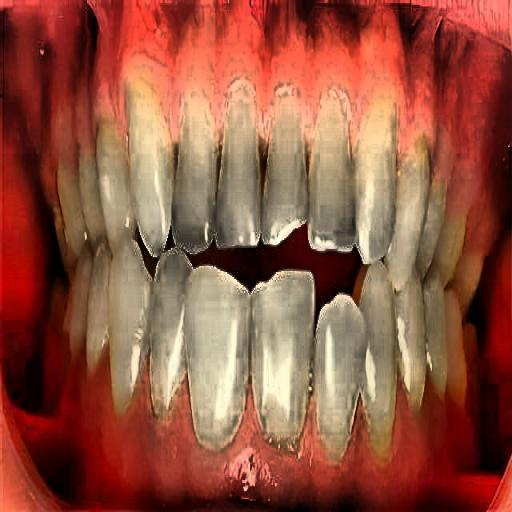Healthy: (91, 58, 466, 449)
